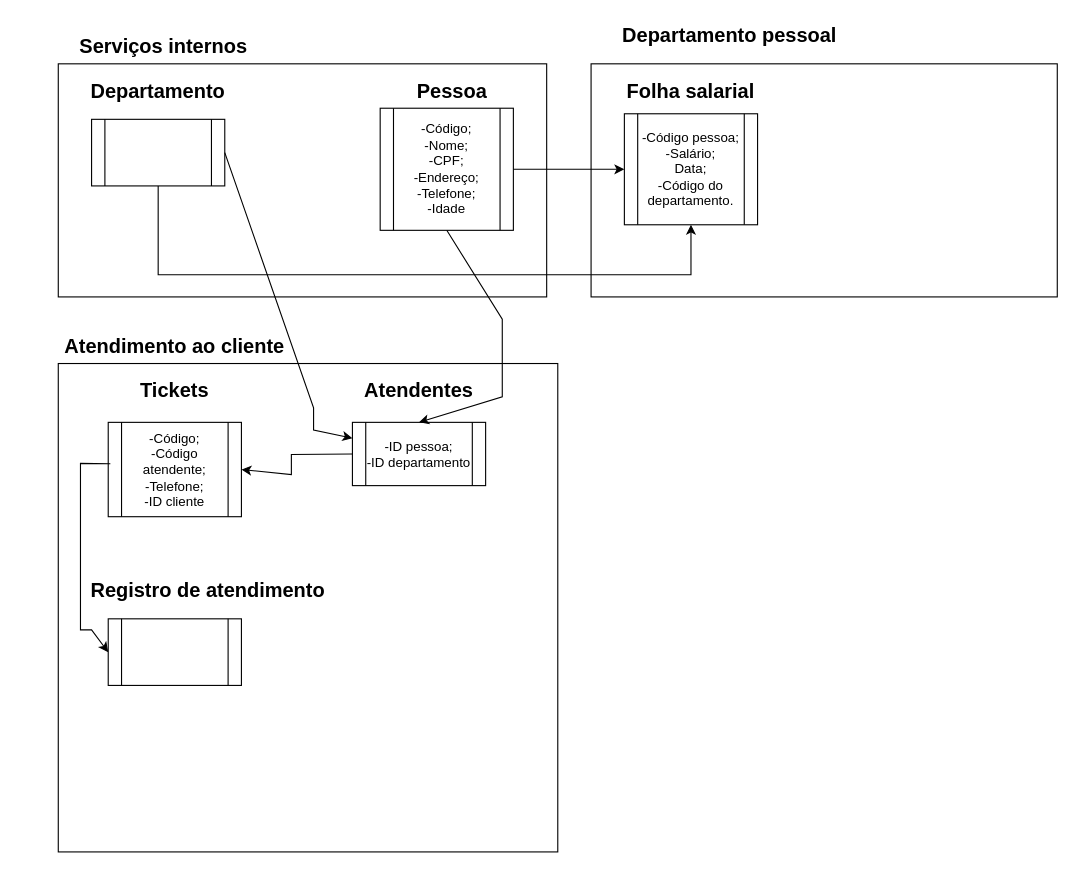
This 1077x871 diagram has some shape labels left out. The box of each missing label's shape, as (x1, y1, x2, y2) in pixels:
-Código; -Nome; -Setor: (90, 118, 225, 186)
-ID ticket; -Descricao: (107, 618, 241, 685)
